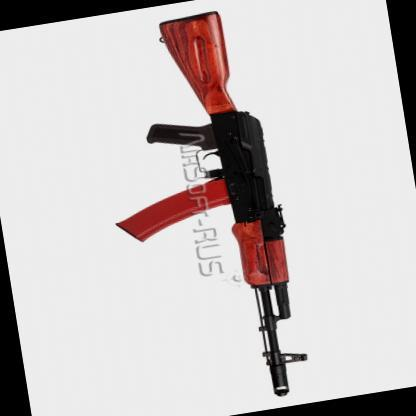rifle: (69, 0, 332, 416)
